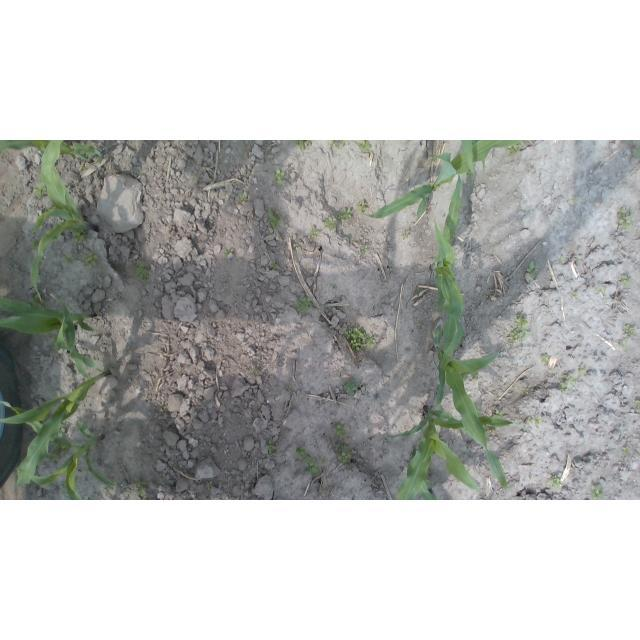Maize: (1, 294, 112, 486), (382, 405, 536, 500), (431, 310, 510, 491), (366, 141, 526, 220), (0, 400, 116, 500), (29, 140, 100, 302), (428, 173, 464, 356), (0, 296, 98, 352), (1, 140, 104, 164), (419, 477, 438, 500)
Weeds: (297, 446, 328, 474), (344, 328, 376, 351), (507, 315, 532, 343), (618, 206, 634, 231), (132, 477, 148, 500), (48, 445, 68, 461), (336, 445, 352, 464), (268, 209, 283, 228), (34, 181, 48, 199), (344, 379, 359, 395), (526, 416, 544, 429), (85, 253, 100, 268), (623, 324, 638, 339), (297, 297, 312, 312), (546, 475, 562, 489), (28, 293, 44, 307), (136, 264, 149, 281), (590, 485, 604, 500), (323, 217, 338, 231), (337, 208, 353, 221), (294, 141, 312, 152), (72, 230, 88, 242), (526, 261, 536, 280), (275, 169, 286, 186), (334, 424, 347, 438), (631, 140, 640, 158), (329, 141, 347, 150), (506, 145, 518, 156), (562, 373, 574, 384), (359, 141, 371, 152), (63, 255, 75, 266), (267, 440, 276, 454), (359, 200, 368, 214), (309, 227, 320, 238), (621, 275, 631, 287), (484, 425, 495, 435), (30, 240, 40, 251), (492, 410, 502, 420), (559, 382, 569, 392), (541, 354, 550, 365), (224, 249, 235, 258), (598, 288, 608, 297), (402, 230, 411, 240), (58, 427, 67, 437), (239, 194, 248, 203), (272, 261, 281, 270), (571, 290, 579, 299), (622, 446, 630, 455), (206, 482, 214, 491), (580, 365, 587, 375), (635, 399, 640, 412), (251, 368, 259, 376), (620, 340, 628, 348), (294, 242, 302, 250), (80, 164, 87, 172), (362, 245, 369, 253), (573, 197, 580, 204), (330, 283, 337, 290), (523, 388, 529, 395)
